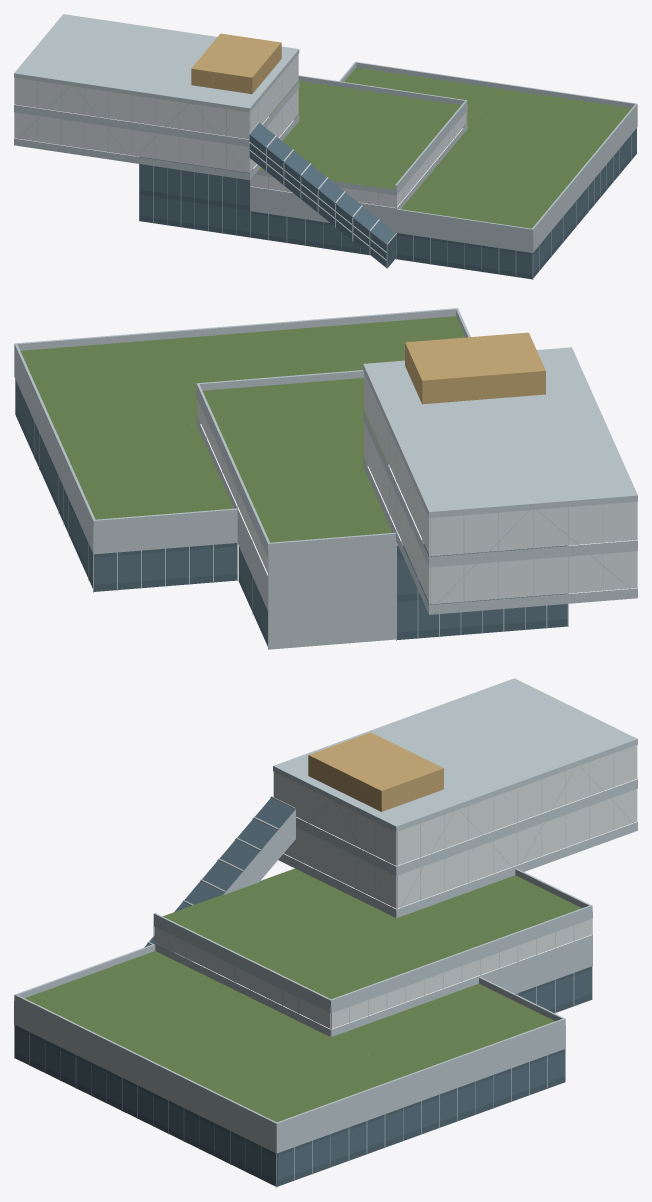
File: mnbaq-pavillon-lassonde-far.glb
3 renders of one model, top to bottom at view 1: azimuth 30°, elevation 25°; view 2: azimuth 150°, elevation 25°; view 3: azimuth 270°, elevation 25°, orthographic. The views are drawn at different scales.
Visible parts, largest first — view 1: mnbaq-pavillon-lassonde-0-frit, mnbaq-pavillon-lassonde-0-green, mnbaq-pavillon-lassonde-0-glow, mnbaq-pavillon-lassonde-0-light, mnbaq-pavillon-lassonde-0-glass, mnbaq-pavillon-lassonde-0-gold; view 2: mnbaq-pavillon-lassonde-0-frit, mnbaq-pavillon-lassonde-0-green, mnbaq-pavillon-lassonde-0-glow, mnbaq-pavillon-lassonde-0-light, mnbaq-pavillon-lassonde-0-gold, mnbaq-pavillon-lassonde-0-glass; view 3: mnbaq-pavillon-lassonde-0-frit, mnbaq-pavillon-lassonde-0-green, mnbaq-pavillon-lassonde-0-glow, mnbaq-pavillon-lassonde-0-light, mnbaq-pavillon-lassonde-0-glass, mnbaq-pavillon-lassonde-0-gold.
Part boxes in pixels (bbox=[...]): mnbaq-pavillon-lassonde-0-frit: bbox=[14, 14, 637, 279]; mnbaq-pavillon-lassonde-0-green: bbox=[259, 67, 631, 228]; mnbaq-pavillon-lassonde-0-glow: bbox=[14, 54, 466, 207]; mnbaq-pavillon-lassonde-0-light: bbox=[139, 130, 636, 274]; mnbaq-pavillon-lassonde-0-glass: bbox=[139, 123, 636, 279]; mnbaq-pavillon-lassonde-0-gold: bbox=[191, 33, 281, 93]; mnbaq-pavillon-lassonde-0-frit: bbox=[14, 308, 637, 649]; mnbaq-pavillon-lassonde-0-green: bbox=[20, 316, 465, 542]; mnbaq-pavillon-lassonde-0-glow: bbox=[197, 372, 637, 604]; mnbaq-pavillon-lassonde-0-light: bbox=[15, 381, 567, 639]; mnbaq-pavillon-lassonde-0-gold: bbox=[405, 332, 545, 404]; mnbaq-pavillon-lassonde-0-glass: bbox=[15, 379, 567, 646]; mnbaq-pavillon-lassonde-0-frit: bbox=[14, 678, 637, 1187]; mnbaq-pavillon-lassonde-0-green: bbox=[25, 868, 581, 1122]; mnbaq-pavillon-lassonde-0-glow: bbox=[154, 745, 637, 1029]; mnbaq-pavillon-lassonde-0-light: bbox=[15, 969, 591, 1180]; mnbaq-pavillon-lassonde-0-glass: bbox=[15, 797, 591, 1186]; mnbaq-pavillon-lassonde-0-gold: bbox=[308, 732, 443, 811].
Bounding box in the file's own units: 104 × 29.6 × 83.31.
